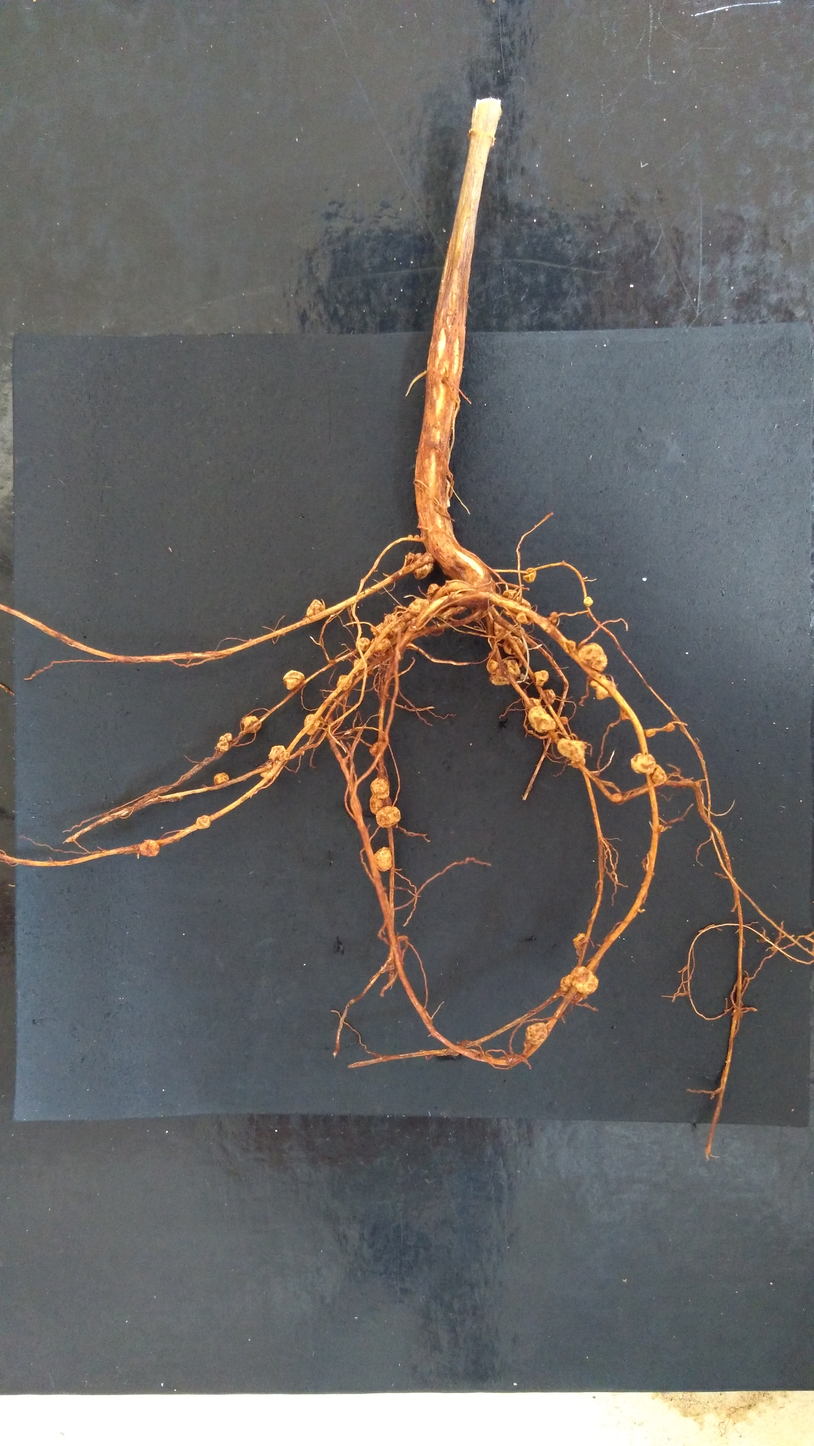nodule: (577, 641, 609, 674), (569, 965, 600, 995), (527, 704, 557, 734), (489, 659, 522, 686), (558, 973, 586, 1002), (556, 736, 586, 761), (629, 751, 657, 776), (503, 595, 532, 619), (374, 805, 402, 829), (412, 552, 435, 580), (282, 668, 306, 692), (525, 1022, 549, 1046), (373, 846, 393, 874), (267, 743, 290, 765), (368, 776, 390, 799), (589, 678, 613, 699), (571, 931, 590, 957), (303, 713, 324, 736), (650, 762, 668, 788), (305, 597, 327, 618), (502, 635, 524, 656), (139, 838, 162, 858), (241, 715, 264, 734), (214, 731, 233, 754), (383, 614, 405, 633), (407, 597, 429, 615), (370, 622, 394, 638), (336, 672, 353, 693), (367, 794, 384, 815), (533, 669, 550, 688), (370, 638, 391, 653), (425, 583, 442, 601), (569, 756, 589, 770), (494, 621, 508, 640), (195, 814, 211, 830), (522, 567, 537, 584), (542, 688, 556, 706), (213, 771, 231, 785), (355, 637, 371, 652), (353, 657, 369, 672), (487, 658, 501, 674), (369, 740, 382, 757), (403, 551, 417, 566), (516, 610, 529, 626), (565, 639, 577, 653), (527, 696, 542, 707), (582, 595, 594, 608), (610, 792, 623, 804), (503, 589, 518, 599), (644, 727, 656, 738), (549, 610, 559, 623), (260, 771, 273, 780), (665, 722, 675, 733), (559, 716, 569, 726), (772, 943, 779, 952), (406, 534, 413, 540), (413, 534, 420, 540)
